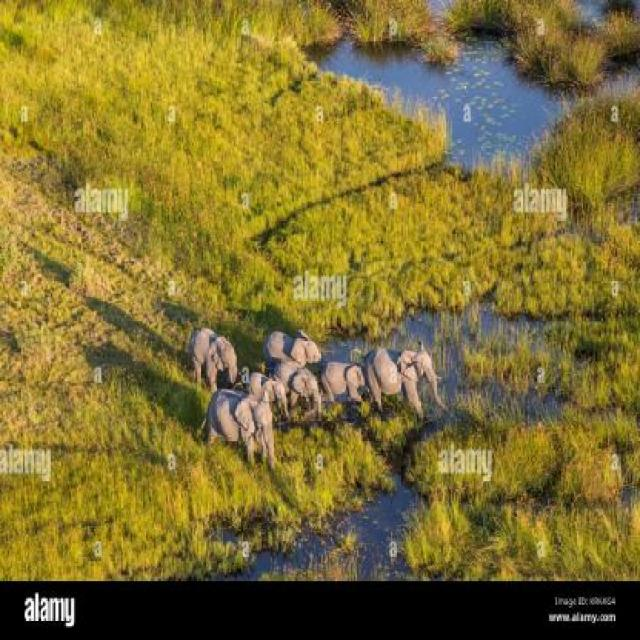elephant: (201, 389, 281, 476), (369, 331, 440, 415), (312, 354, 371, 417), (277, 364, 331, 425), (189, 324, 236, 384), (248, 356, 288, 426), (272, 328, 323, 362)
